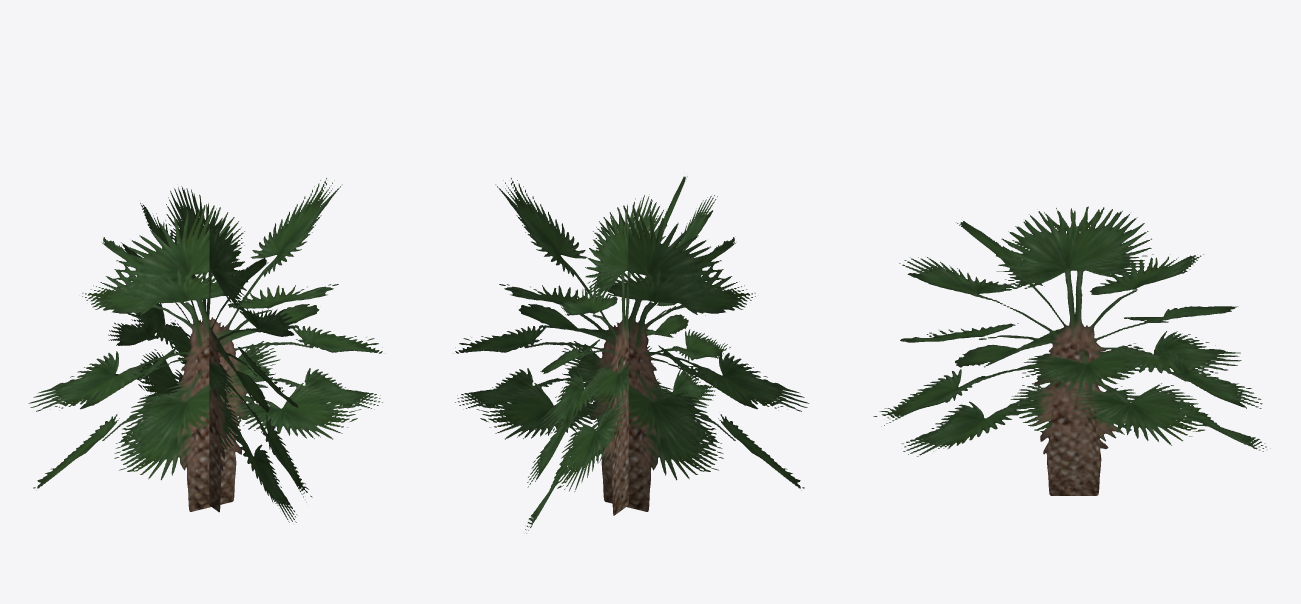
Rendered from chi_2s_LOD2.fbx.
The picture shows the model from 3 angles, left to right: view 1: azimuth 30°, elevation 25°; view 2: azimuth 150°, elevation 25°; view 3: azimuth 270°, elevation 25°; orthographic projection. The views are drawn at different scales.
Parts seen in each view (by area): view 1: chi_LOD2; view 2: chi_LOD2; view 3: chi_LOD2.
Part boxes in pixels (left/top/right/bottom): chi_LOD2: left=28, top=178, right=382, bottom=522; chi_LOD2: left=455, top=176, right=809, bottom=533; chi_LOD2: left=873, top=206, right=1270, bottom=495.
Size of the model in its own units: 940 by 950 by 950.
